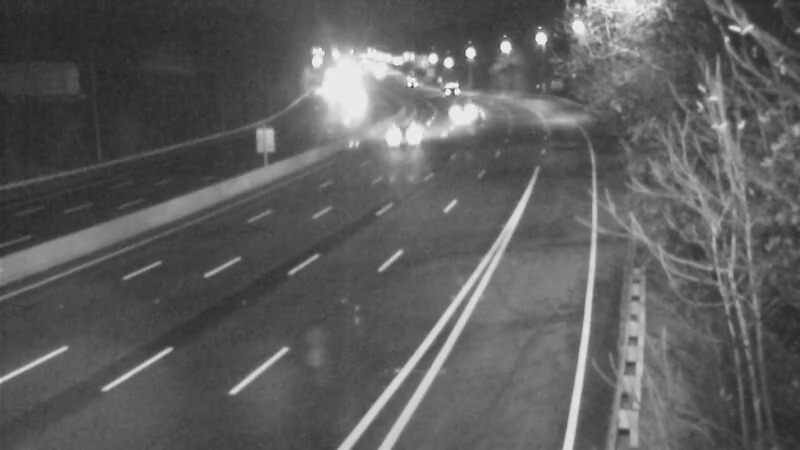vehicle: (415, 61, 465, 111), (436, 88, 486, 138), (388, 111, 438, 161)
